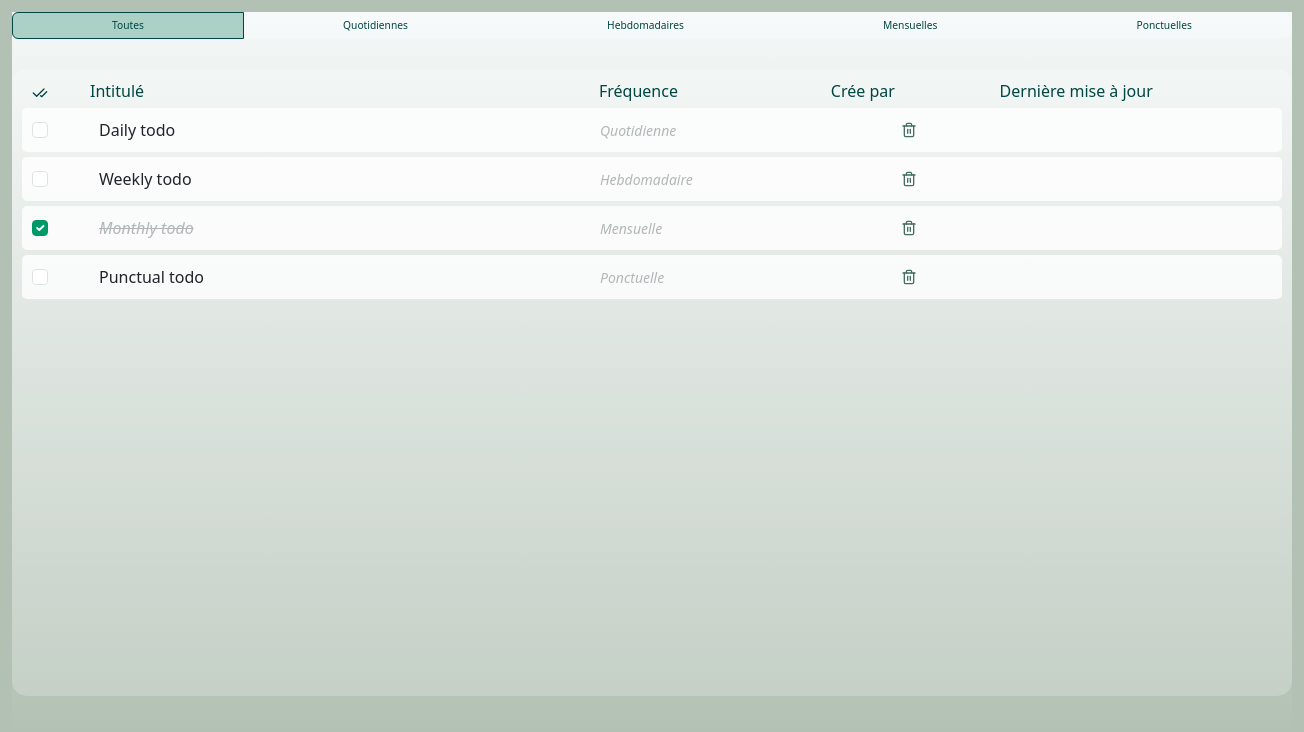
Test: TodoList › Should display all todo items when user click on all todos button (given that another frequency was selected before)
Click the button with test id "dailyTodoButton".
click(376, 26)  # box [243, 12, 508, 39]
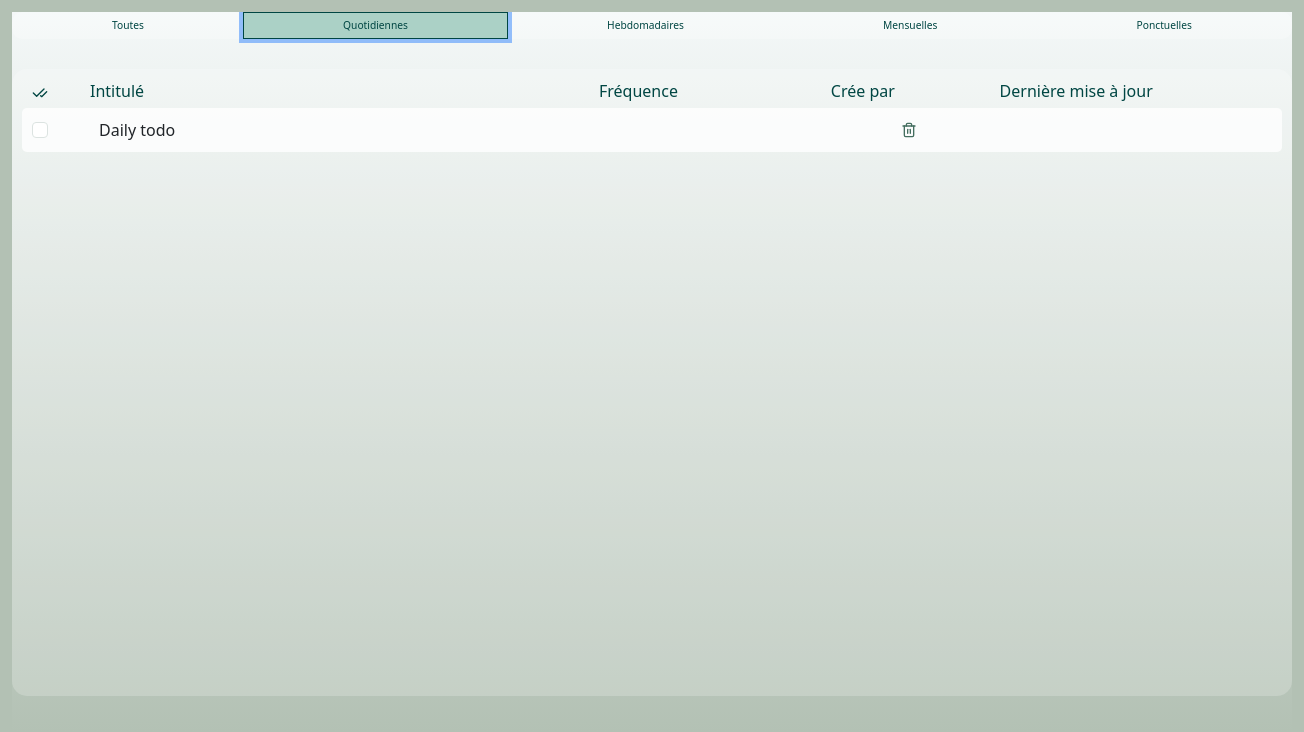
Expected: the element with test id "dailyTodo_" is shown, [22, 108, 1282, 152]
Click the button with test id "allTodoButton".
click(128, 26)  # box [12, 12, 244, 39]
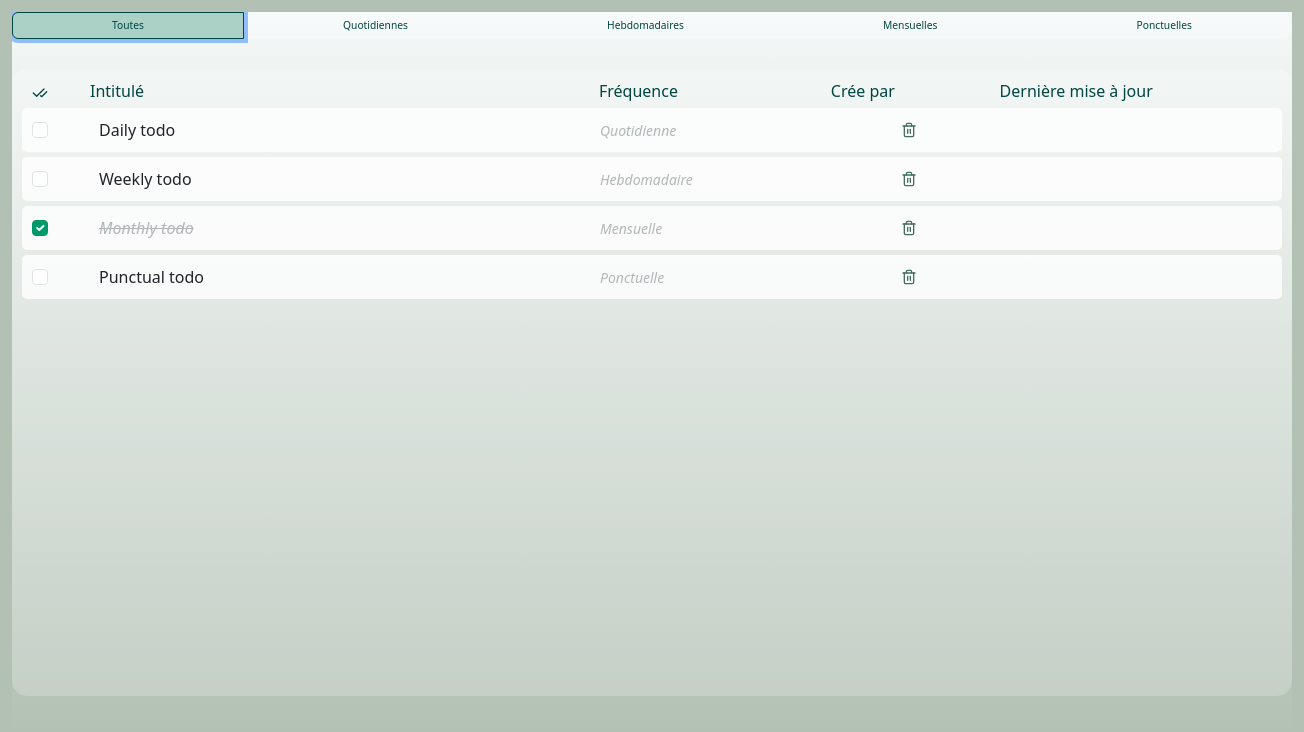
Now the element with test id "weeklyTodo_" is shown, box [22, 157, 1282, 201]
Now the element with test id "monthlyTodo_" is shown, box [22, 206, 1282, 250]
Now the element with test id "punctualTodo_" is shown, box [22, 255, 1282, 299]
